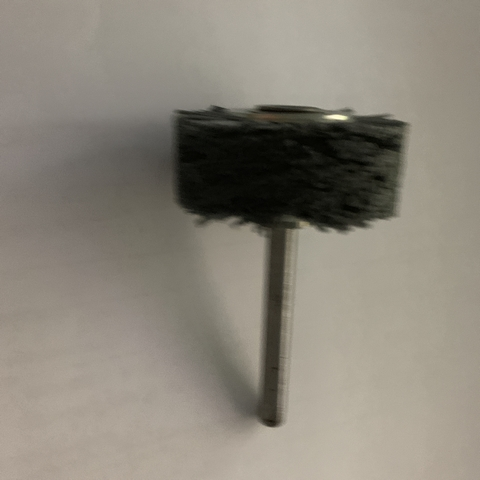Wheel Brush: (143, 85, 412, 437), (167, 93, 432, 440), (175, 108, 397, 384)
